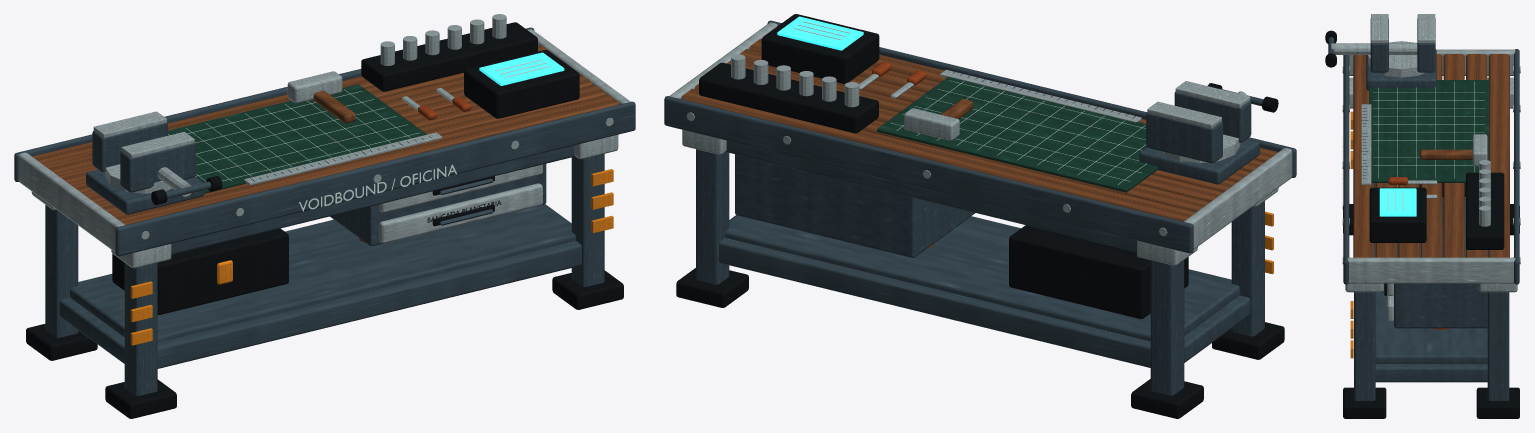
The model's file is bancada-planetaria.glb.
3 renders of one model, left to right at view 1: azimuth 30°, elevation 25°; view 2: azimuth 150°, elevation 25°; view 3: azimuth 270°, elevation 25°, orthographic. The views are drawn at different scales.
Parts seen in each view (by area): view 1: Perna de ferro.004, Sapata de apoio.004, Proteção de canto.004, Ripa laminada do tampo.007, Tapete técnico.001, Grade do tapete.012, Trava da caixa.001, Tela.001; view 2: Perna de ferro.004, Sapata de apoio.004, Tapete técnico.001, Proteção de canto.004, Ripa laminada do tampo.007, Grade do tapete.012, Tela.001; view 3: Perna de ferro.004, Ripa laminada do tampo.007, Proteção de canto.004, Tapete técnico.001, Sapata de apoio.004, Grade do tapete.012, Tela.001, Trava da caixa.001.
Boxes of the visible parts, box(x1,y1,x2,y2) form: Perna de ferro.004: box(14, 27, 635, 395); Sapata de apoio.004: box(26, 22, 623, 418); Proteção de canto.004: box(18, 14, 630, 268); Ripa laminada do tampo.007: box(32, 43, 619, 224); Tapete técnico.001: box(168, 84, 426, 193); Grade do tapete.012: box(168, 59, 551, 211); Trava da caixa.001: box(130, 169, 613, 345); Tela.001: box(479, 52, 564, 85); Perna de ferro.004: box(664, 20, 1296, 395); Sapata de apoio.004: box(676, 14, 1284, 418); Tapete técnico.001: box(877, 77, 1158, 192); Proteção de canto.004: box(669, 22, 1292, 265); Ripa laminada do tampo.007: box(681, 29, 1277, 221); Grade do tapete.012: box(793, 21, 1146, 184); Tela.001: box(777, 16, 863, 50); Perna de ferro.004: box(1328, 18, 1519, 400); Ripa laminada do tampo.007: box(1353, 54, 1509, 257); Proteção de canto.004: box(1331, 14, 1520, 321); Tapete técnico.001: box(1369, 80, 1489, 182); Sapata de apoio.004: box(1325, 30, 1519, 418); Grade do tapete.012: box(1342, 81, 1484, 210); Tela.001: box(1379, 188, 1416, 216); Trava da caixa.001: box(1350, 111, 1398, 358).
Size of the model in its own units: 3.02 by 1.39 by 1.17.
9 materials, 7 textured.
